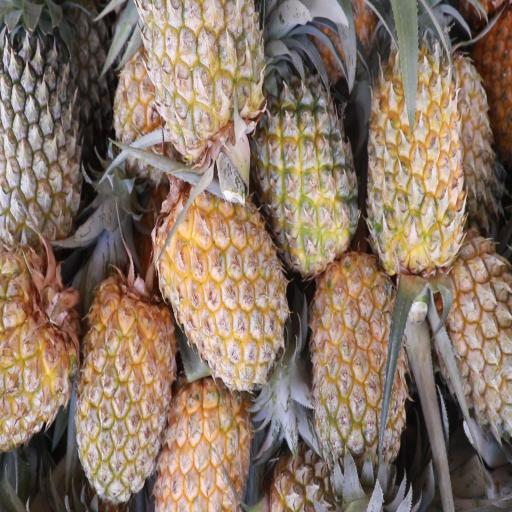------------------------------: (248, 37, 360, 279), (131, 0, 269, 170)
Pineapple - v8 v1: (150, 164, 293, 394), (361, 0, 468, 293), (304, 237, 406, 512), (71, 254, 180, 496), (1, 236, 88, 456), (435, 220, 512, 453), (152, 347, 254, 512)
